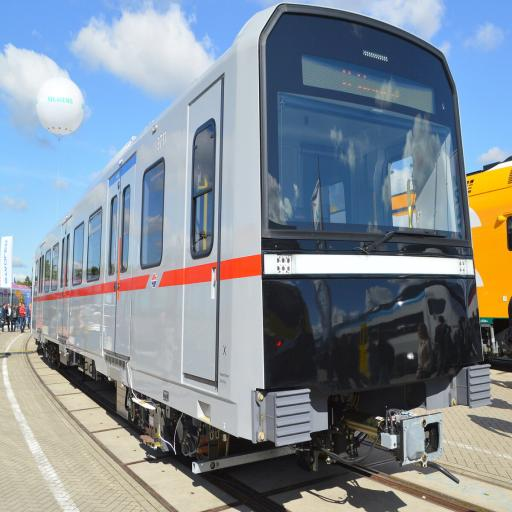X-Wagen: (31, 5, 491, 449)
